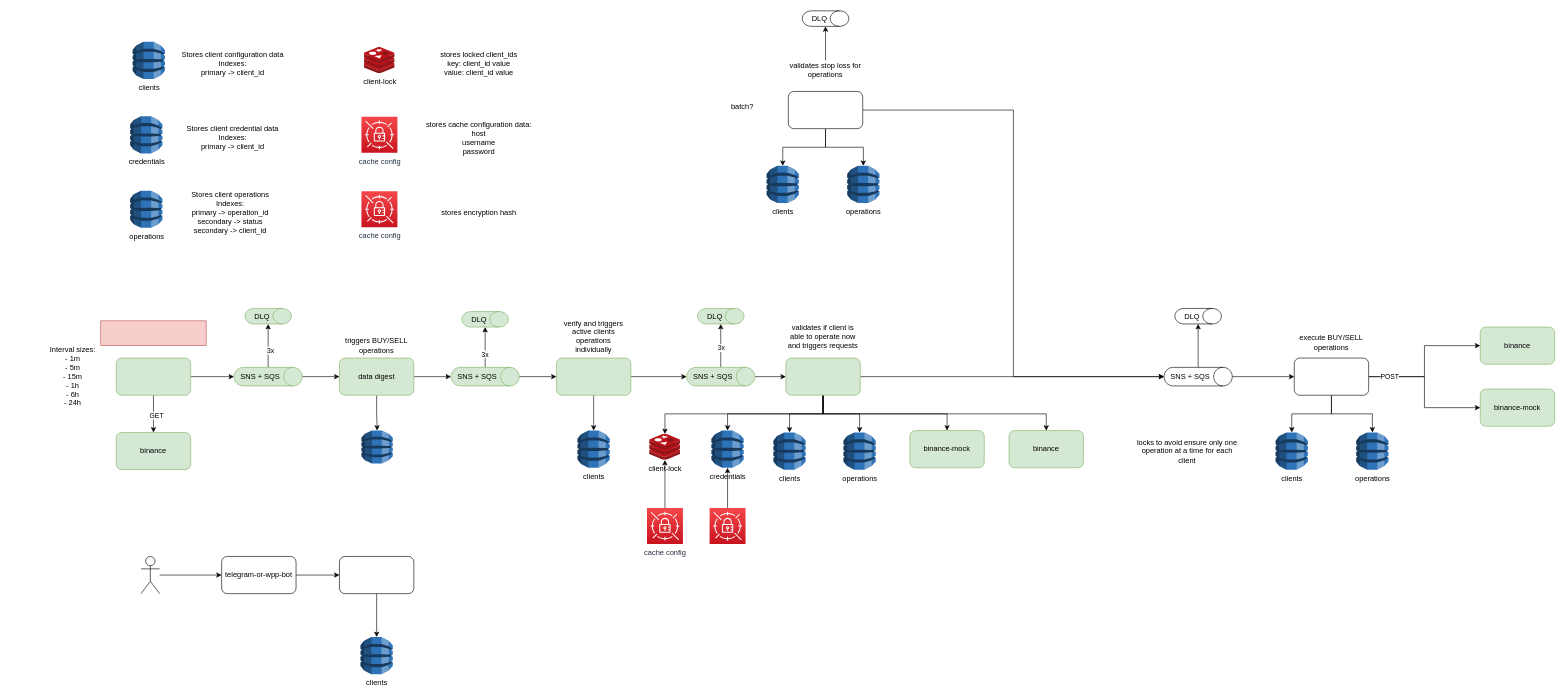
Some shapes in this 1566 by 698 pixel diagram are drawn without their labels. Here are the shapes that lost their labels. From the top down, the centre of each, then its label:
(x=825, y=110): stop loss
(x=153, y=333): change this one to use proper finance library to get analysis
(x=153, y=376): analysis data gen
(x=593, y=376): operation hub
(x=822, y=376): validator
(x=1331, y=376): operaton executor
(x=377, y=446): analyzed_data
(x=727, y=525): encryption config
(x=150, y=575): Actor
(x=376, y=575): clients API
